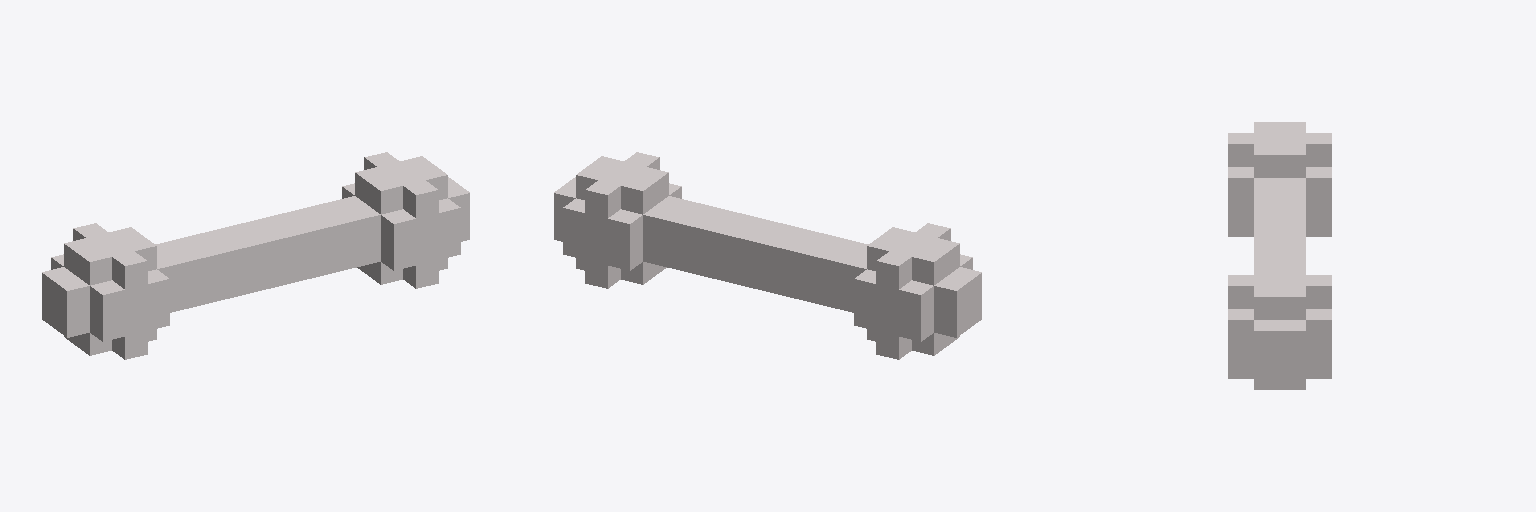
The picture shows the model from 3 angles: view 1: azimuth 30°, elevation 25°; view 2: azimuth 150°, elevation 25°; view 3: azimuth 270°, elevation 25°; orthographic projection.
Visible parts, largest first — view 1: object 1; view 2: object 1; view 3: object 1.
Boxes of the visible parts, x1,y1,x2,y2 form: object 1: [42, 152, 469, 359]; object 1: [554, 152, 981, 359]; object 1: [1228, 122, 1331, 389].
Size of the model in its own units: 1.8 by 0.4 by 0.4.
Materials: 1 (1 with a texture image).